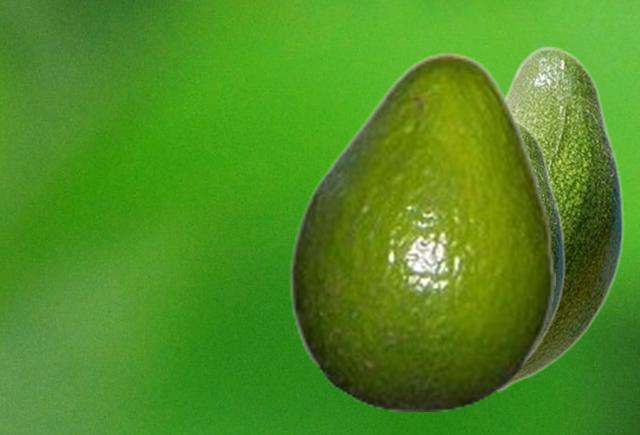avocado: (288, 51, 554, 410), (500, 45, 624, 391), (518, 120, 565, 355)
